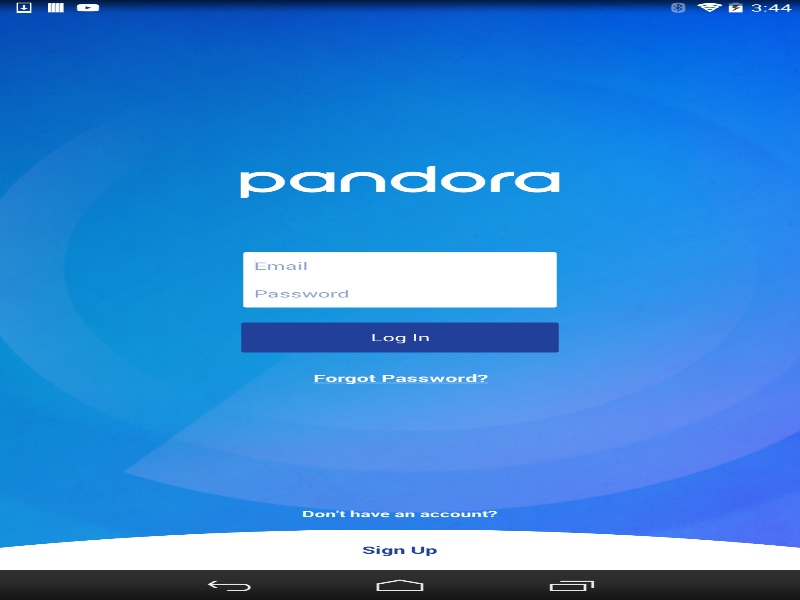Button: (236, 318, 564, 356)
Input: (243, 252, 556, 279), (243, 280, 556, 307)
